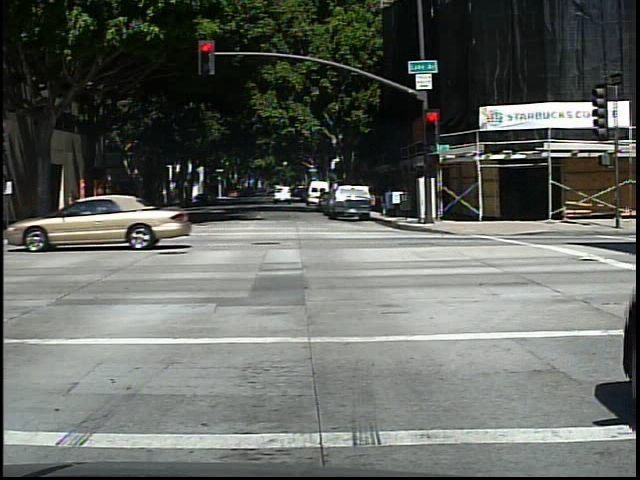person: (61, 185, 91, 238)
